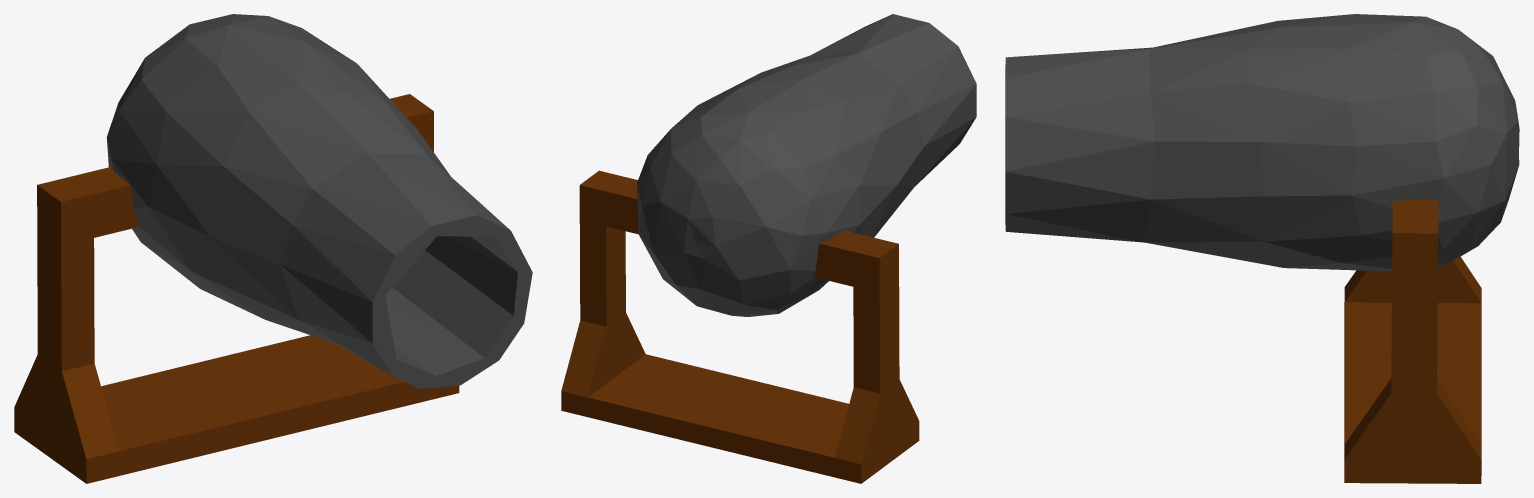
The model's file is CannonOnTable.fbx.
3 views of the same model, side by side, from view 1: azimuth 30°, elevation 25°; view 2: azimuth 150°, elevation 25°; view 3: azimuth 270°, elevation 25° (orthographic). The views are drawn at different scales.
Parts seen in each view (by area): view 1: Cannon; view 2: Cannon; view 3: Cannon.
Boxes of the visible parts, x1,y1,x2,y2 form: Cannon: [14, 14, 532, 483]; Cannon: [561, 14, 976, 483]; Cannon: [1005, 14, 1519, 483].
Size of the model in its own units: 83.53 by 83.74 by 105.
